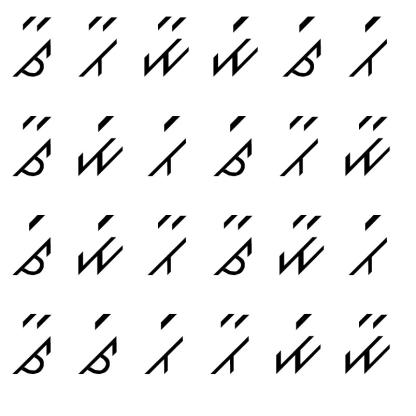ban: (143, 212, 190, 284), (209, 308, 252, 382), (276, 112, 320, 181), (75, 13, 120, 78)
bang: (343, 213, 391, 282), (344, 13, 390, 81), (142, 312, 187, 381), (145, 114, 189, 182)
can: (7, 113, 57, 182), (11, 304, 57, 378), (8, 12, 58, 80), (210, 214, 260, 279)
cang: (72, 311, 122, 377), (8, 212, 56, 280), (210, 112, 256, 180), (278, 15, 327, 78)
man: (272, 208, 328, 278), (341, 110, 393, 179), (338, 310, 392, 374), (139, 14, 194, 76)
mang: (69, 114, 131, 180), (72, 209, 128, 277), (269, 312, 323, 378), (209, 15, 261, 78)
